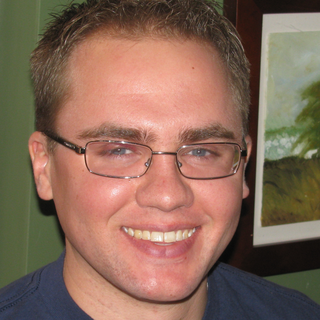eye: (98, 139, 143, 162), (180, 142, 226, 164)
